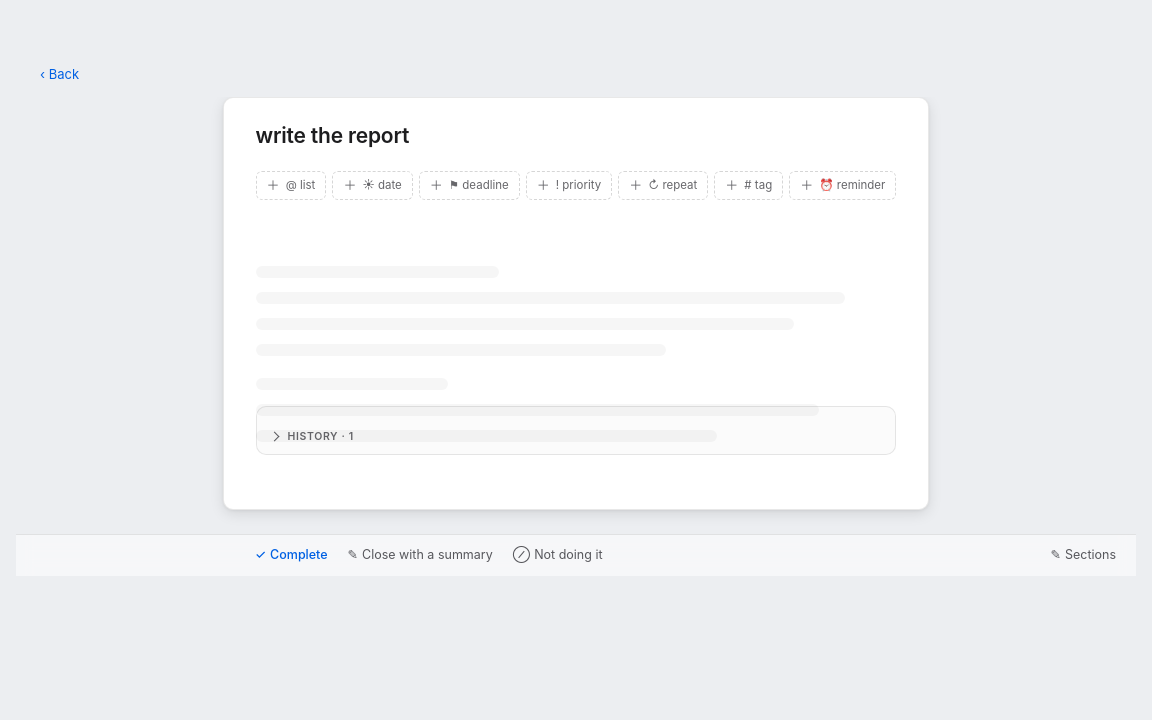
Test: what an edit is allowed to do › refuses to empty the title, because a task without one cannot be found
This screenshot has width=1152, height=720.
Clear the text box named "Title" at [576, 137], box [256,122,896,151]
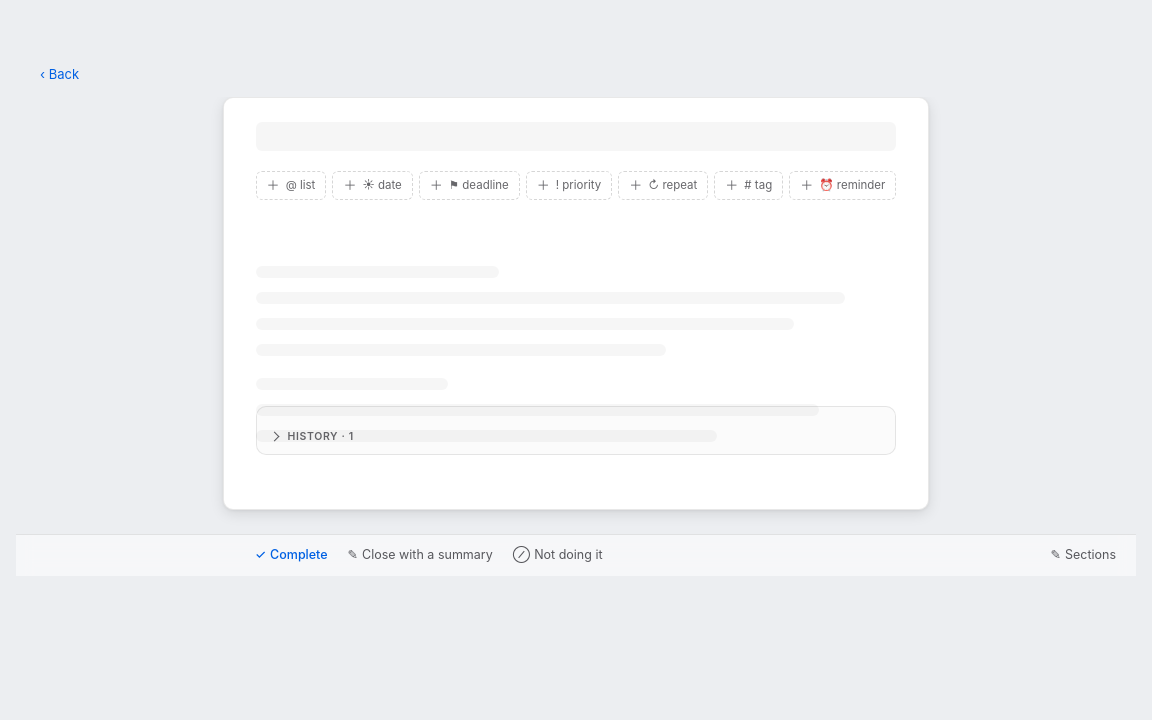
Press Tab
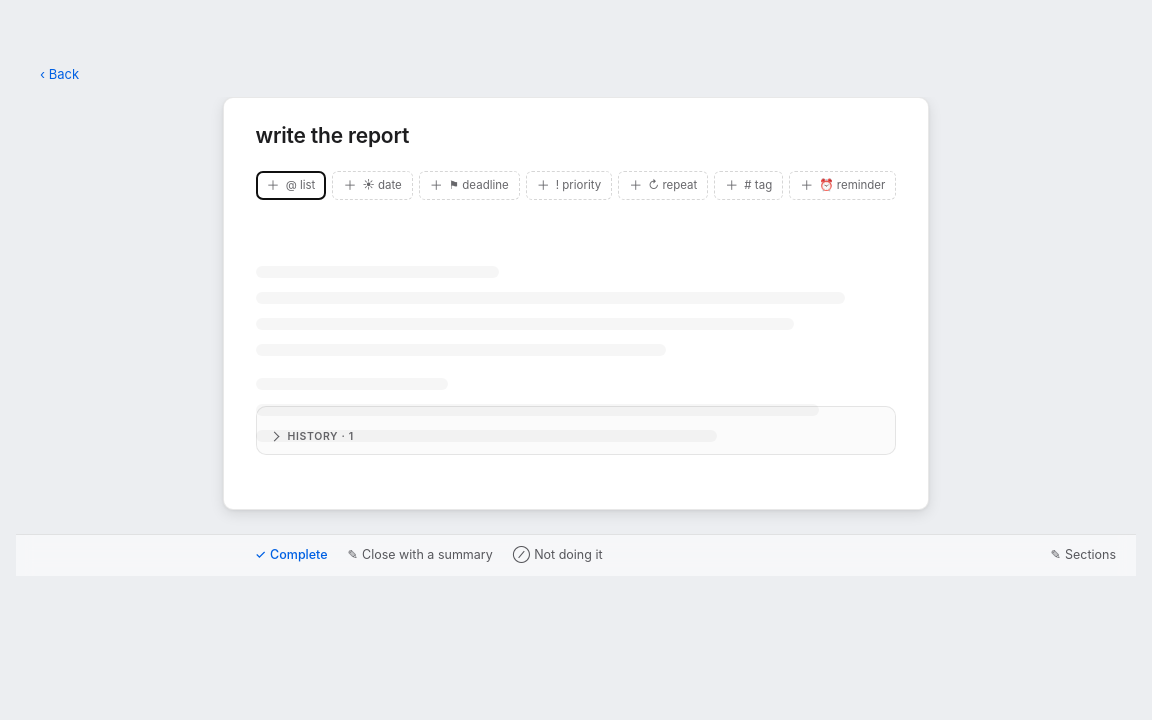
Expected: the text box named "Title" holds "write the report", [256,122,896,151]
